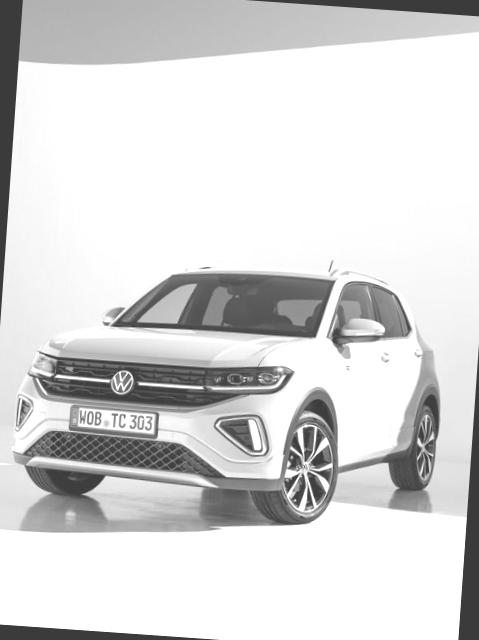suv: (4, 245, 464, 560)
